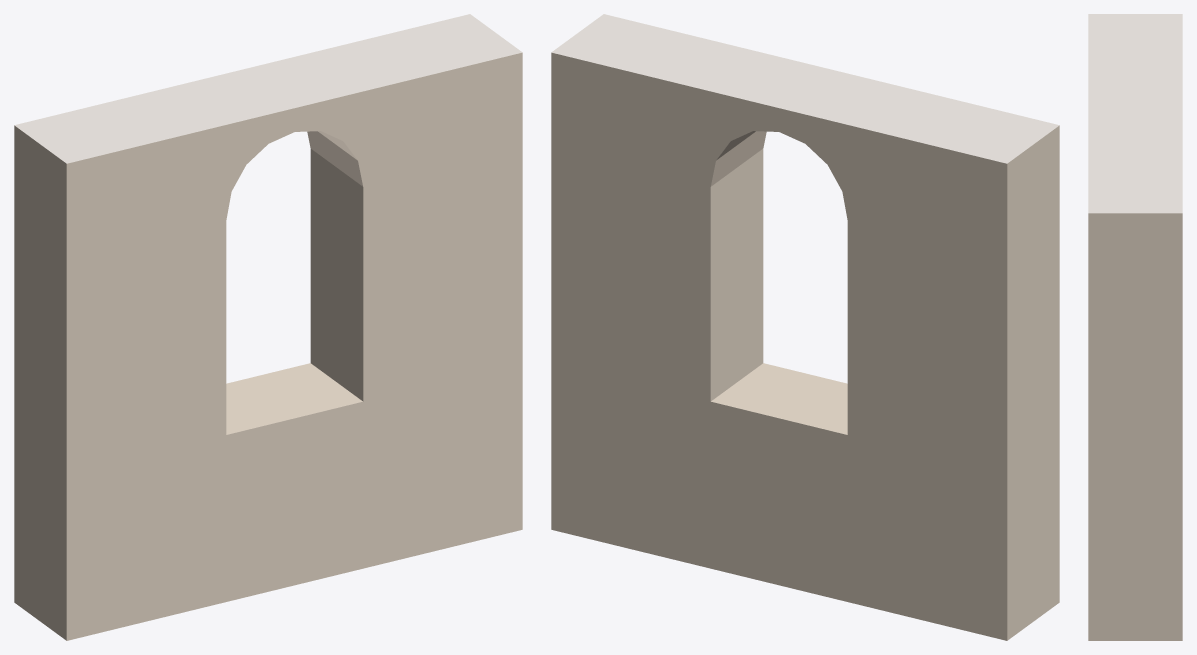
Rendered from temple_Wall_Straight_Window.glb.
3 views of the same model, side by side, from view 1: azimuth 30°, elevation 25°; view 2: azimuth 150°, elevation 25°; view 3: azimuth 270°, elevation 25° (orthographic). The views are drawn at different scales.
Visible parts, largest first — view 1: object1; view 2: object1; view 3: object1.
Boxes of the visible parts, box(x1,y1,x2,y2) form: object1: box(14, 14, 522, 640); object1: box(551, 14, 1059, 640); object1: box(1088, 14, 1182, 640).
Size of the model in its own units: 1 by 1 by 0.2.
